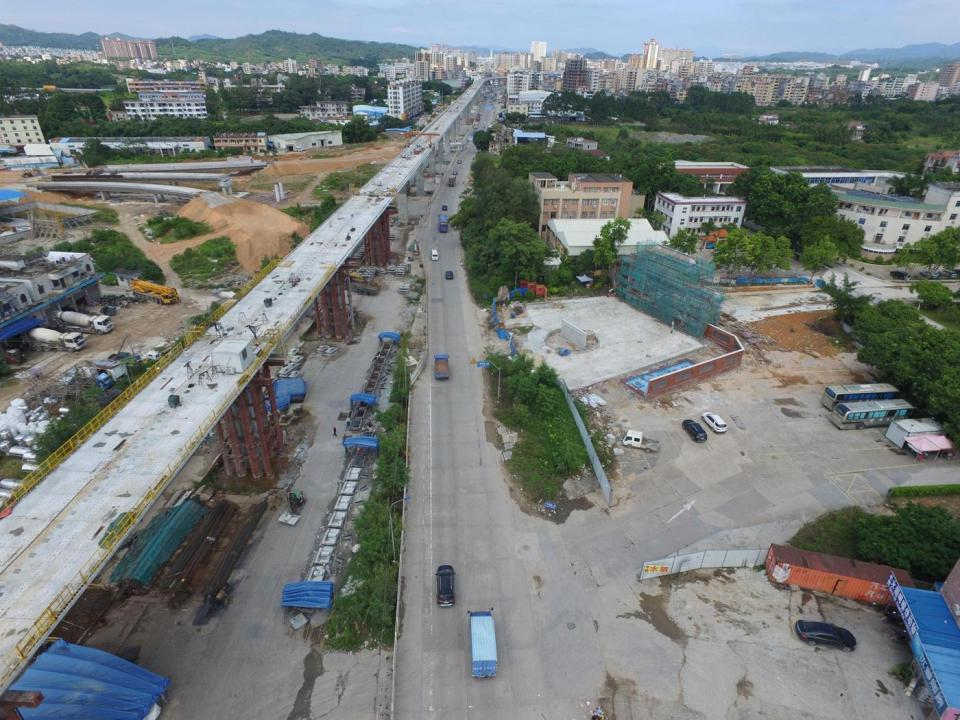bus: (829, 399, 918, 431), (821, 383, 900, 410), (438, 214, 447, 233)
car: (798, 621, 859, 653), (435, 564, 456, 608), (682, 419, 707, 443), (702, 411, 728, 433), (890, 270, 909, 280), (940, 270, 957, 278), (921, 271, 939, 278), (446, 271, 453, 279), (442, 205, 447, 211), (454, 172, 458, 174), (458, 161, 462, 163)
truck: (468, 608, 500, 677), (622, 430, 660, 453), (342, 277, 381, 294), (434, 354, 449, 378), (108, 352, 140, 363), (449, 176, 454, 186)
van: (431, 249, 438, 260)
